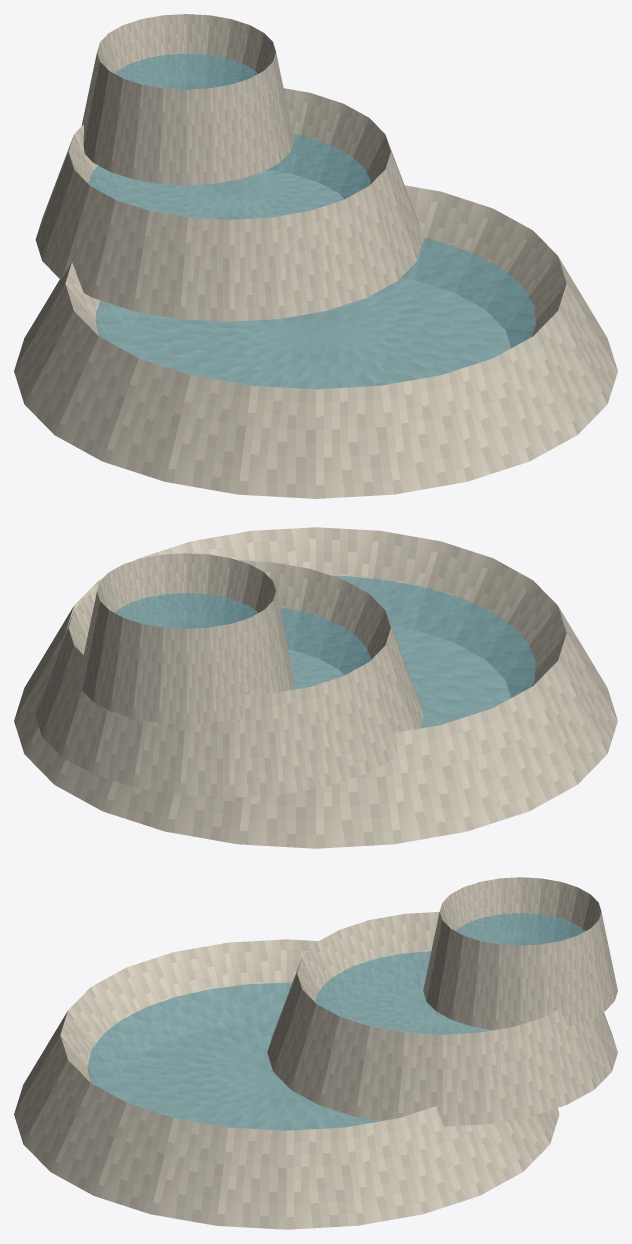
The model's file is cave-and-crystal-networks-rimstone-dams-0543f30f.glb.
3 views of the same model, one above another, from view 1: azimuth 30°, elevation 25°; view 2: azimuth 150°, elevation 25°; view 3: azimuth 270°, elevation 25° (orthographic). The views are drawn at different scales.
Visible parts, largest first — view 1: rimstone-dams; view 2: rimstone-dams; view 3: rimstone-dams.
Boxes of the visible parts, left/top/right/bottom form: rimstone-dams: left=14, top=14, right=617, bottom=498; rimstone-dams: left=14, top=527, right=617, bottom=848; rimstone-dams: left=14, top=877, right=617, bottom=1229.
Size of the model in its own units: 2.8 by 1.15 by 3.1.
2 materials, 2 textured.
